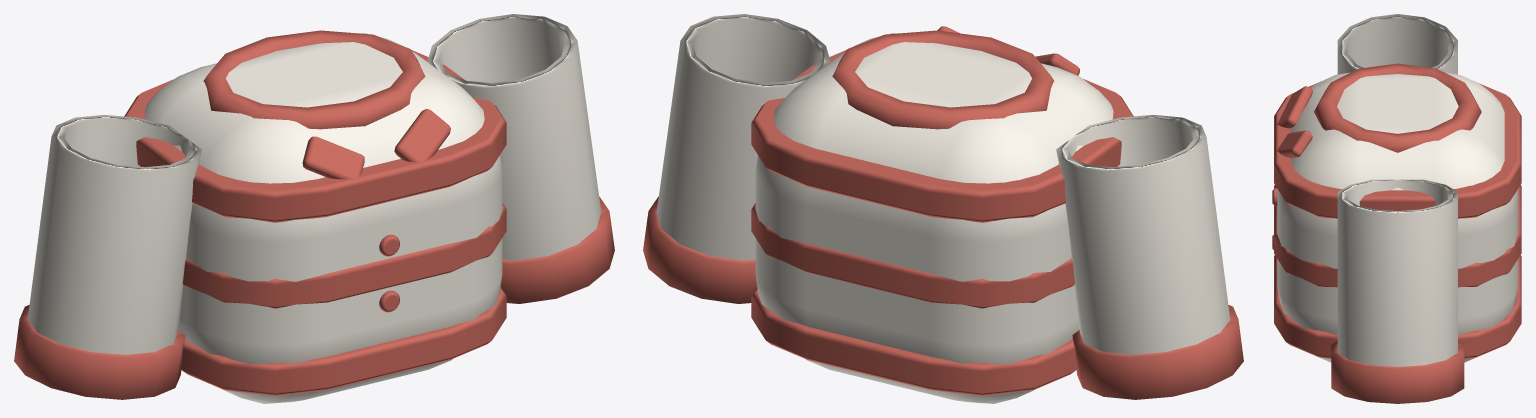
The model's file is baseball_shirt.glb.
3 renders of one model, left to right at view 1: azimuth 30°, elevation 25°; view 2: azimuth 150°, elevation 25°; view 3: azimuth 270°, elevation 25°, orthographic. The views are drawn at different scales.
Visible parts, largest first — view 1: baseball_shirt_Body, baseball_shirt_ArmL, baseball_shirt_ArmR; view 2: baseball_shirt_Body, baseball_shirt_ArmL, baseball_shirt_ArmR; view 3: baseball_shirt_Body, baseball_shirt_ArmR, baseball_shirt_ArmL.
Boxes of the visible parts, box(x1,y1,x2,y2) form: baseball_shirt_Body: box(124, 30, 506, 403); baseball_shirt_ArmL: box(14, 114, 201, 399); baseball_shirt_ArmR: box(427, 14, 614, 303); baseball_shirt_Body: box(751, 26, 1133, 403); baseball_shirt_ArmL: box(1056, 114, 1243, 399); baseball_shirt_ArmR: box(643, 14, 830, 303); baseball_shirt_Body: box(1272, 63, 1521, 362); baseball_shirt_ArmR: box(1331, 179, 1464, 403); baseball_shirt_ArmL: box(1337, 14, 1457, 74).
Bounding box in the file's own units: 0.6504 × 0.3119 × 0.3.
